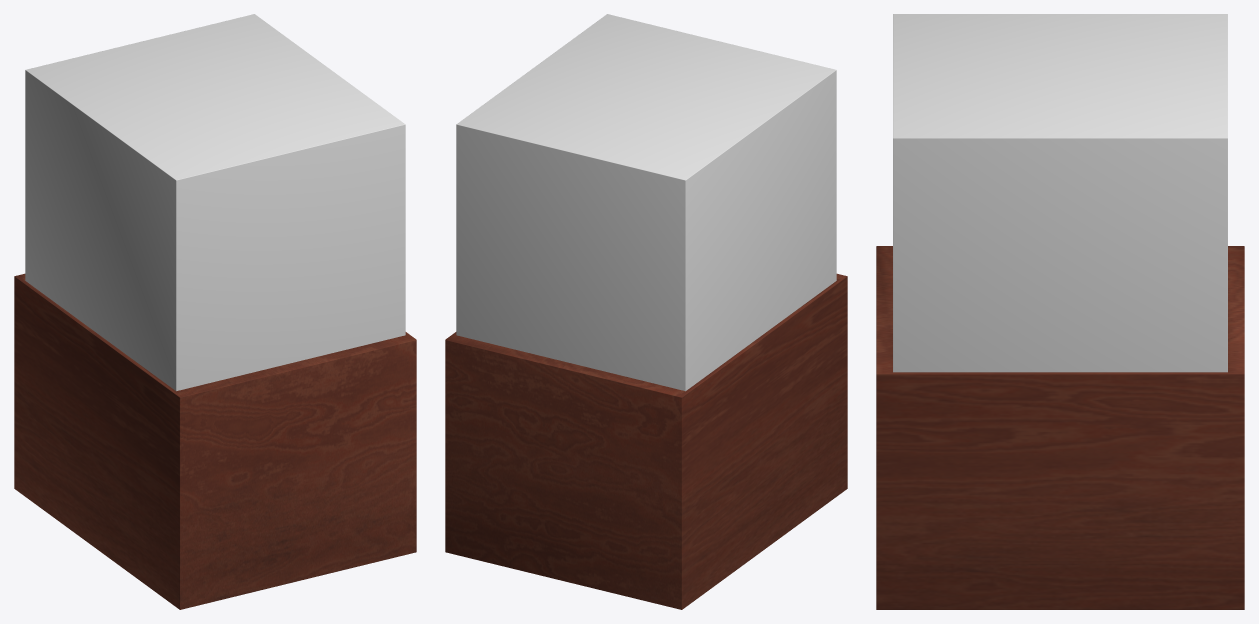
The model's file is Etalase.fbx.
3 renders of one model, left to right at view 1: azimuth 30°, elevation 25°; view 2: azimuth 150°, elevation 25°; view 3: azimuth 270°, elevation 25°, orthographic. The views are drawn at different scales.
Visible parts, largest first — view 1: Glass, Table; view 2: Glass, Table; view 3: Glass, Table.
Boxes of the visible parts, left/top/right/bottom form: Glass: left=25, top=14, right=405, bottom=391; Table: left=14, top=273, right=416, bottom=609; Glass: left=456, top=14, right=836, bottom=391; Table: left=445, top=273, right=847, bottom=609; Glass: left=893, top=14, right=1227, bottom=372; Table: left=876, top=246, right=1244, bottom=609.
Size of the model in its own units: 694 by 1185 by 841.
